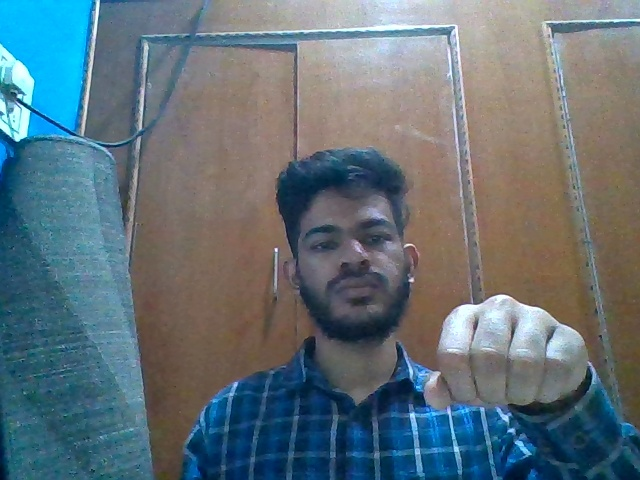yes: (420, 291, 591, 415)
